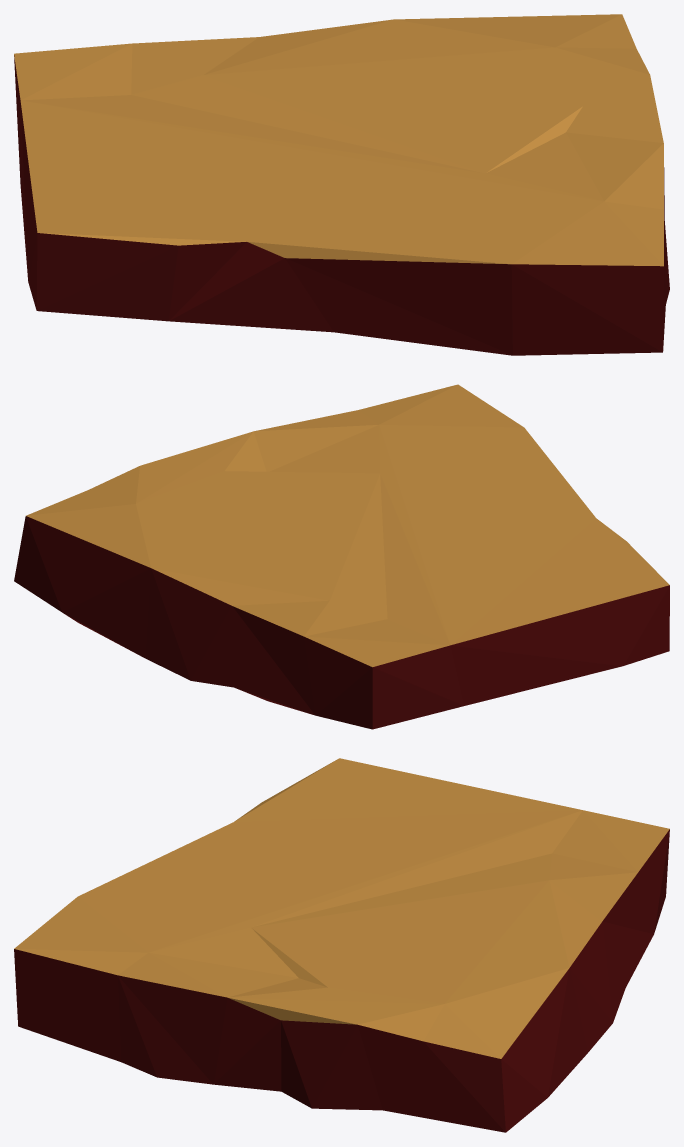
Rendered from modPlat_Small_Plat_Thin_modelled.fbx.
The picture shows the model from 3 angles, top to bottom: view 1: azimuth 30°, elevation 25°; view 2: azimuth 150°, elevation 25°; view 3: azimuth 270°, elevation 25°; orthographic projection. The views are drawn at different scales.
Parts seen in each view (by area): view 1: modPlat_Small_Plat_Thin_modelled; view 2: modPlat_Small_Plat_Thin_modelled; view 3: modPlat_Small_Plat_Thin_modelled.
Boxes of the visible parts, x1,y1,x2,y2 form: modPlat_Small_Plat_Thin_modelled: (14, 14, 669, 355); modPlat_Small_Plat_Thin_modelled: (14, 384, 669, 729); modPlat_Small_Plat_Thin_modelled: (14, 758, 669, 1132).
Size of the model in its own units: 91.81 by 14.27 by 86.82.
